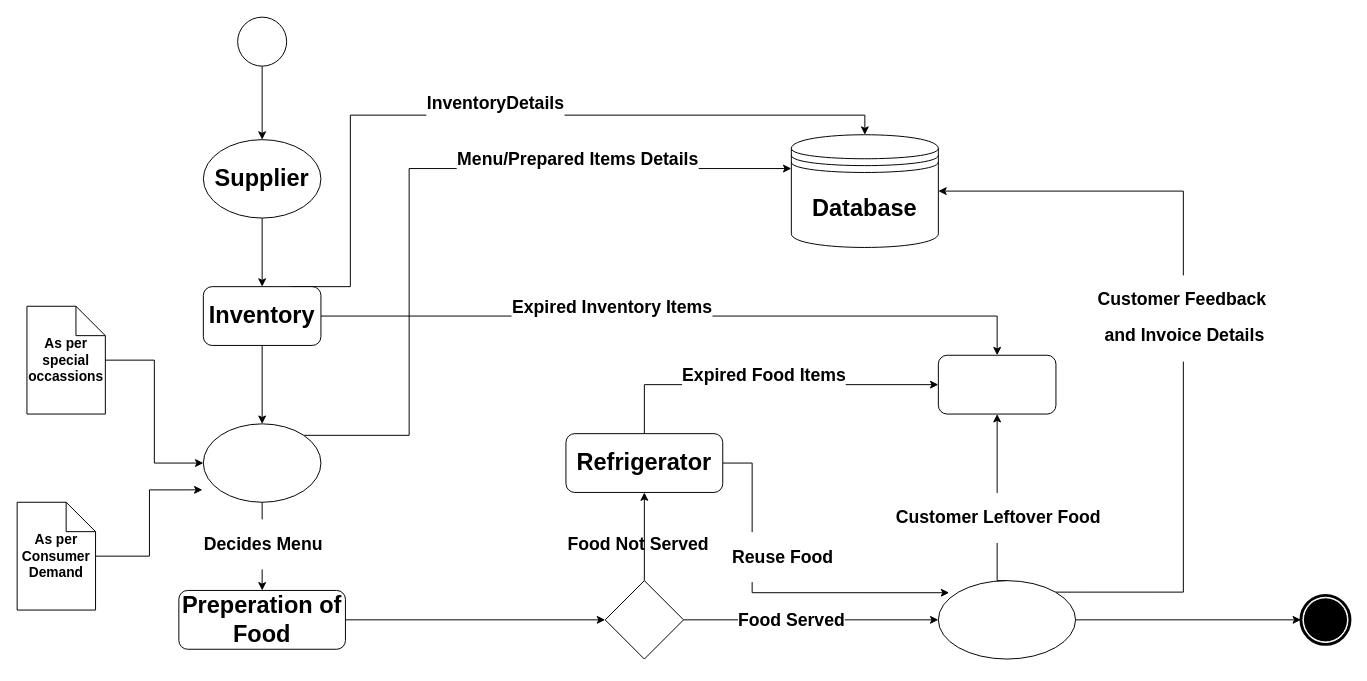
This 1367x681 diagram has some shape labels left out. Each missing label, with the box of its shape:
Chef: (202, 423, 321, 502)
Customer: (937, 580, 1076, 659)
Dump: (937, 354, 1056, 414)
